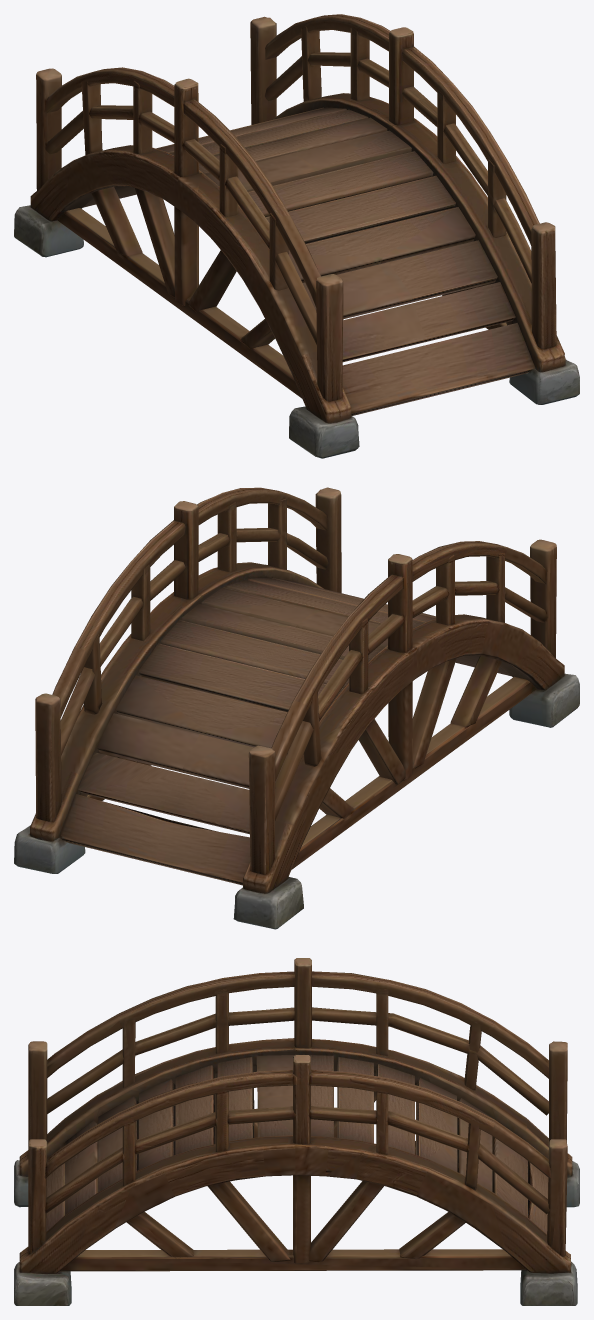
Rendered from selected.glb.
3 renders of one model, top to bottom at view 1: azimuth 30°, elevation 25°; view 2: azimuth 150°, elevation 25°; view 3: azimuth 270°, elevation 25°, orthographic. The views are drawn at different scales.
Parts seen in each view (by area): view 1: tripo_node_901e646a-1094-4680-ad5c-b056806c4210; view 2: tripo_node_901e646a-1094-4680-ad5c-b056806c4210; view 3: tripo_node_901e646a-1094-4680-ad5c-b056806c4210.
Boxes of the visible parts, box(x1,y1,x2,y2) form: tripo_node_901e646a-1094-4680-ad5c-b056806c4210: box(14, 14, 579, 458); tripo_node_901e646a-1094-4680-ad5c-b056806c4210: box(14, 487, 579, 929); tripo_node_901e646a-1094-4680-ad5c-b056806c4210: box(14, 958, 579, 1305).
Bounding box in the file's own units: 0.502 × 0.4629 × 0.998.
Materials: 1 (1 with a texture image).
